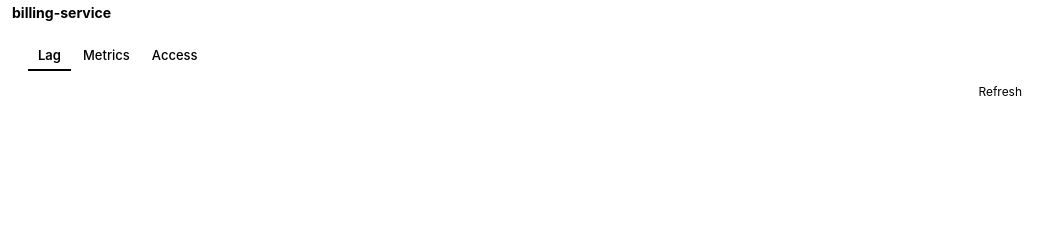
Scenario: ConsumerGroupDetailPanel › fetches and renders lag rows when Refresh is clicked
Click the button "Refresh" at (1000, 92), box [964,78,1036,105]
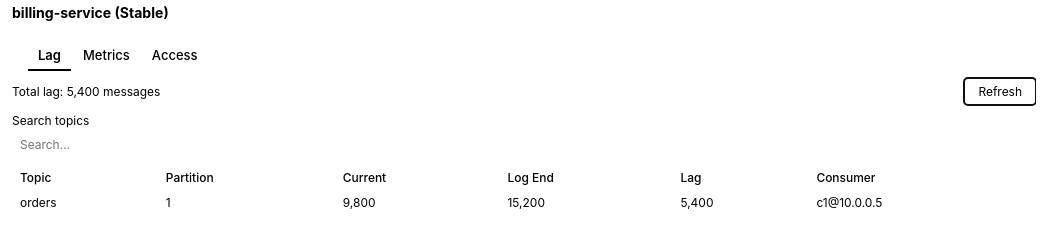
Result: the cells read "orders", "1", "9,800", "15,200", "5,400", "c1@10.0.0.5", in this order at [12,190,158,215]; [158,190,335,215]; [335,190,500,215]; [500,190,672,215]; [672,190,808,215]; [808,190,1036,215]
Result: the heading "billing-service (Stable)" is shown at [12,4,169,21]
